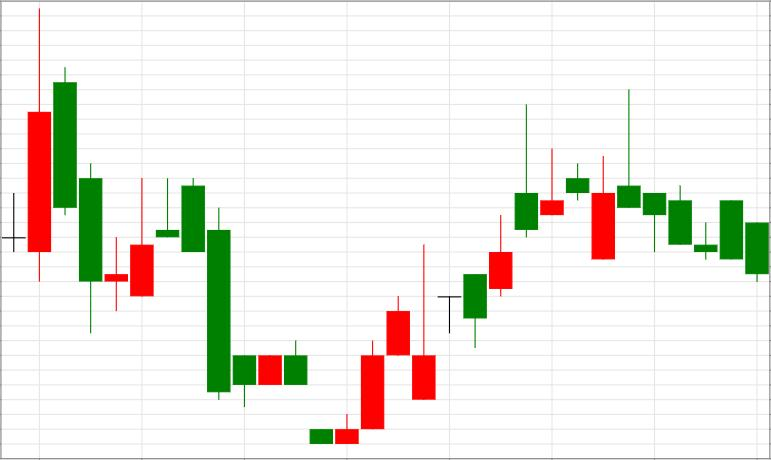shooting_star_fall: (336, 103, 538, 444)
